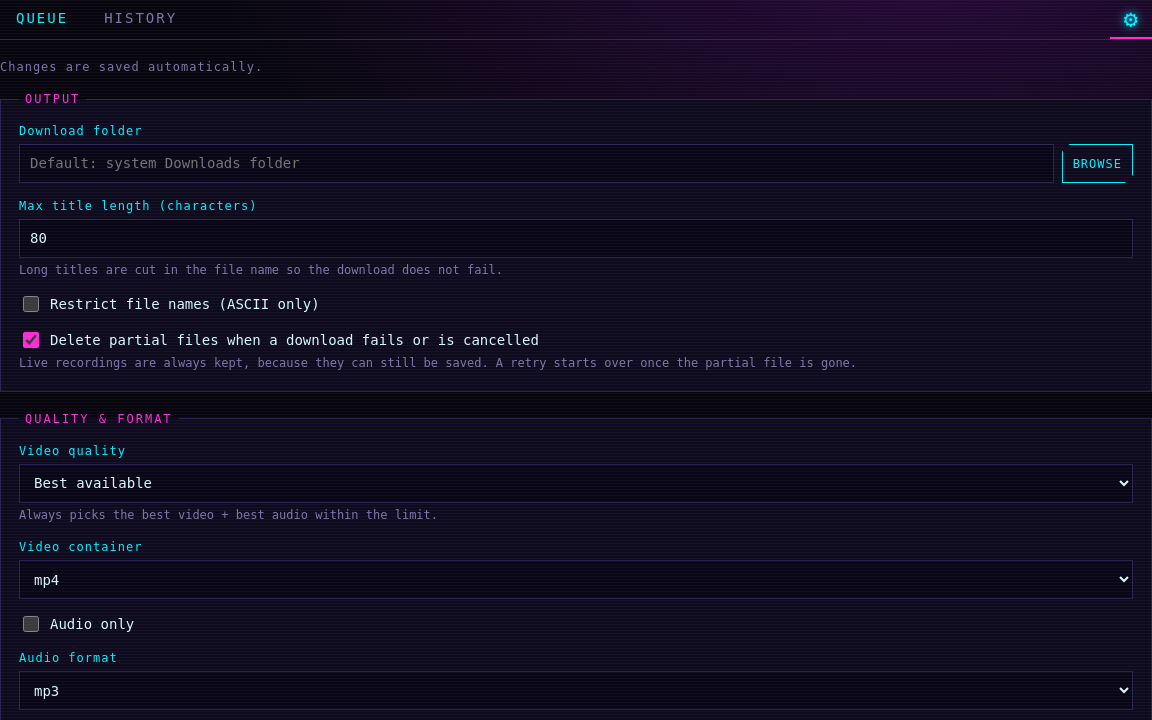
DownloadsPanel › goes from the settings back to the queue
The width and height of the screenshot is (1152, 720).
What coordinates should you click on to do the following:
click the button "QUEUE"
I would click on:
 (42, 20)
Its box is [0,0,84,39].
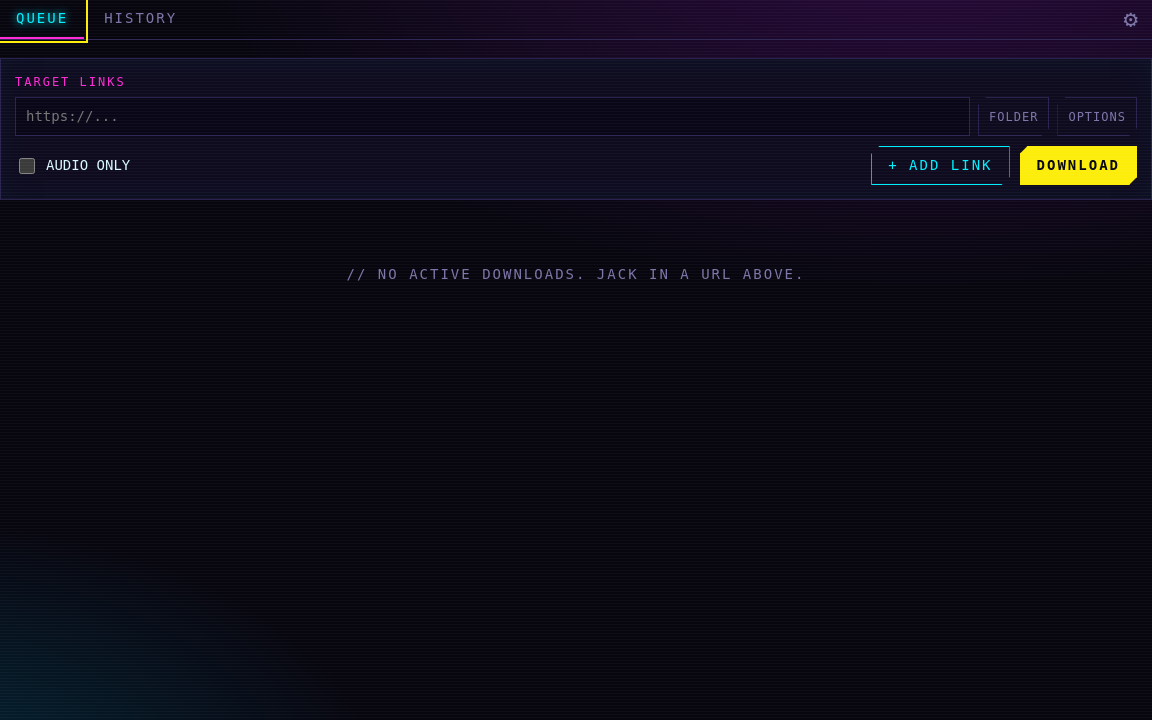
Expected: the field named "Link 1" is shown, [15,97,970,136]
Expected: the text "OUTPUT" is gone
